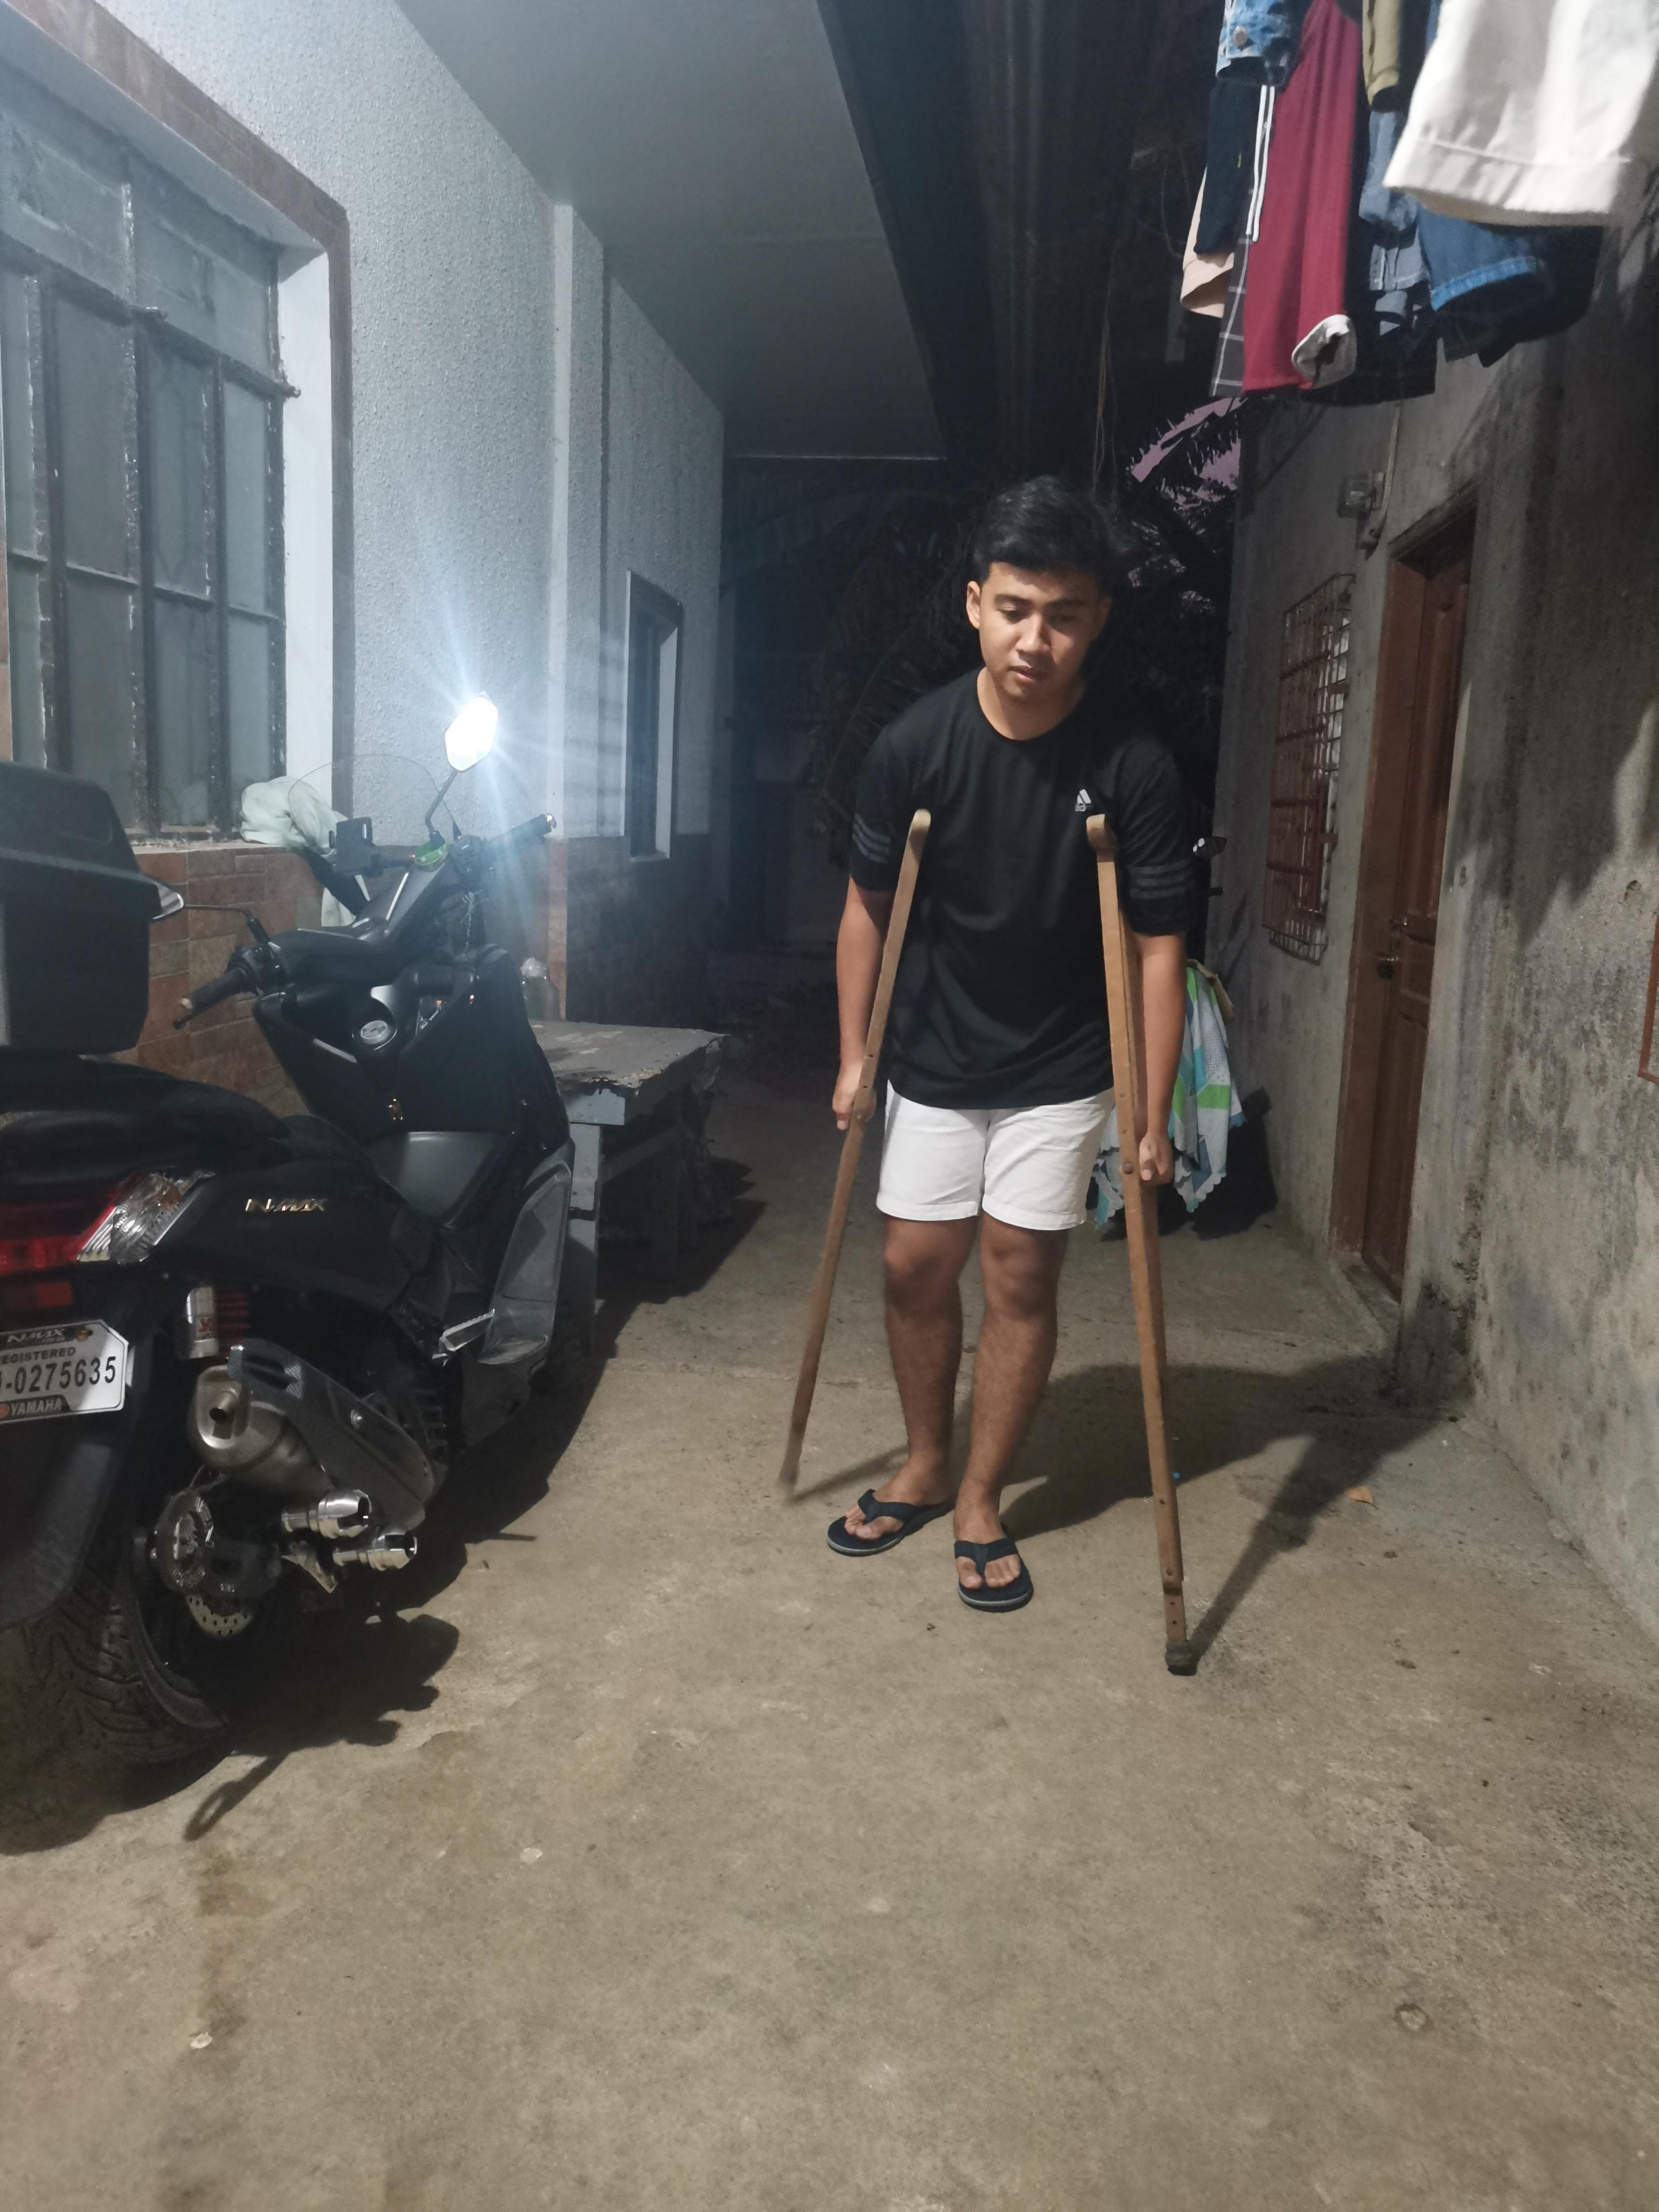crutches: (779, 479, 1195, 1676)
